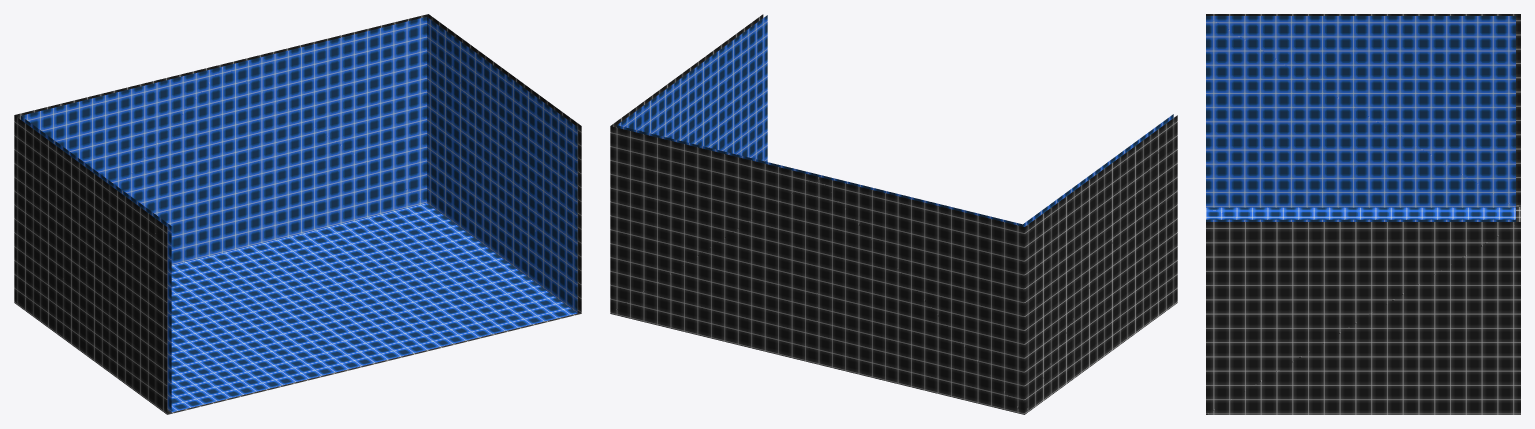
The model's file is TrainingStage_1.fbx.
The picture shows the model from 3 angles, left to right: view 1: azimuth 30°, elevation 25°; view 2: azimuth 150°, elevation 25°; view 3: azimuth 270°, elevation 25°; orthographic projection. The views are drawn at different scales.
Visible parts, largest first — view 1: PolygonGrid_Glow, PolygonGrid; view 2: PolygonGrid, PolygonGrid_Glow; view 3: PolygonGrid_Glow, PolygonGrid.
Part boxes in pixels (x1=…): PolygonGrid_Glow: x1=21, y1=17, x2=577, y2=412; PolygonGrid: x1=14, y1=14, x2=581, y2=414; PolygonGrid: x1=610, y1=14, x2=1177, y2=414; PolygonGrid_Glow: x1=617, y1=15, x2=1173, y2=226; PolygonGrid_Glow: x1=1206, y1=16, x2=1515, y2=221; PolygonGrid: x1=1206, y1=14, x2=1520, y2=414.
Size of the model in its own units: 2250 by 975 by 1440.
2 materials, 2 textured.
